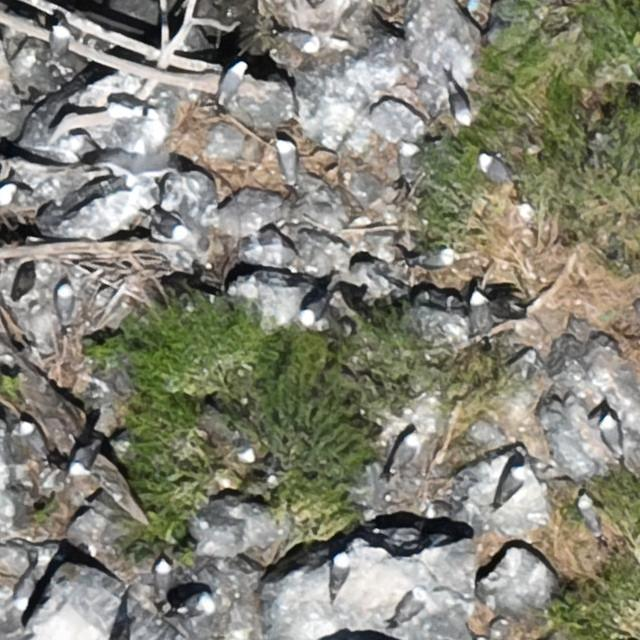F: (91, 137, 192, 187)
umineko: (104, 94, 154, 120), (152, 208, 190, 238), (16, 560, 38, 610), (390, 590, 422, 624), (20, 418, 48, 456), (469, 290, 492, 334), (392, 434, 418, 468), (400, 140, 421, 182), (220, 65, 244, 101), (68, 134, 98, 161), (579, 499, 600, 535), (479, 156, 508, 182), (277, 143, 296, 181), (283, 33, 319, 53), (300, 299, 327, 325), (502, 466, 525, 496), (450, 89, 470, 123), (417, 250, 454, 268), (601, 418, 620, 453), (72, 443, 94, 473), (56, 284, 73, 322), (332, 556, 349, 590), (181, 595, 210, 614), (51, 27, 68, 58), (156, 561, 170, 595), (467, 0, 483, 10)
